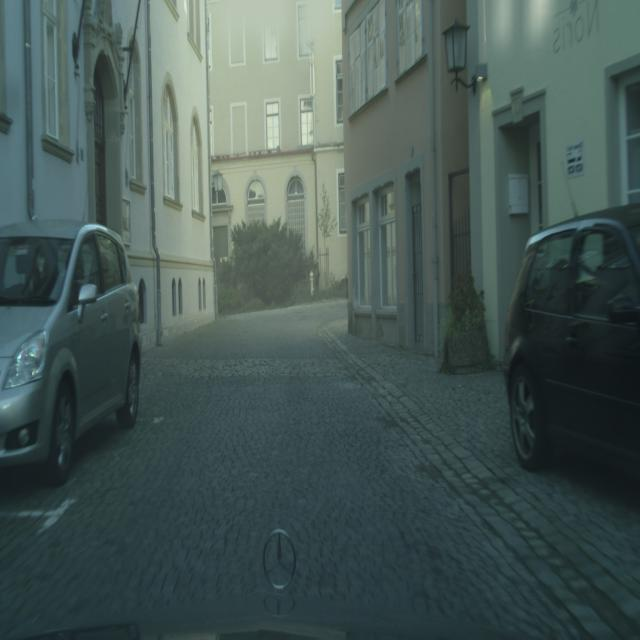bus: (502, 196, 640, 493), (79, 220, 144, 455)
